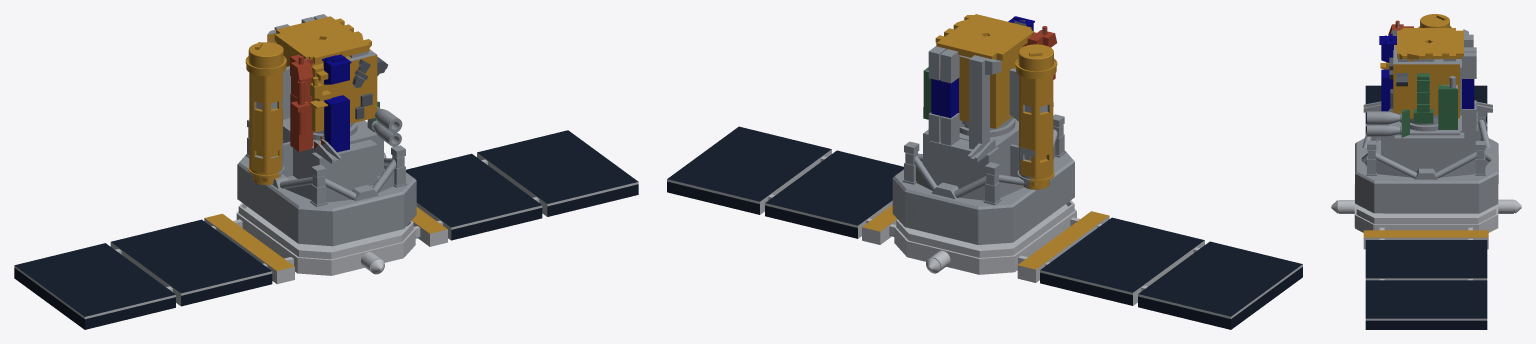
The model's file is soho.glb.
The picture shows the model from 3 angles, left to right: view 1: azimuth 30°, elevation 25°; view 2: azimuth 150°, elevation 25°; view 3: azimuth 270°, elevation 25°; orthographic projection. The views are drawn at different scales.
Parts seen in each view (by area): view 1: SOHO_Solar_Array, SOHO_Instrument_Module, SOHO_Main_Body; view 2: SOHO_Solar_Array, SOHO_Instrument_Module, SOHO_Main_Body; view 3: SOHO_Solar_Array, SOHO_Main_Body, SOHO_Instrument_Module.
Boxes of the visible parts, left/top/right/bottom form: SOHO_Solar_Array: left=14, top=130, right=638, bottom=329; SOHO_Instrument_Module: left=245, top=14, right=402, bottom=163; SOHO_Main_Body: left=237, top=120, right=416, bottom=246; SOHO_Solar_Array: left=667, top=126, right=1302, bottom=329; SOHO_Instrument_Module: left=923, top=14, right=1057, bottom=162; SOHO_Main_Body: left=892, top=114, right=1074, bottom=244; SOHO_Solar_Array: left=1331, top=85, right=1521, bottom=329; SOHO_Main_Body: left=1355, top=111, right=1498, bottom=213; SOHO_Instrument_Module: left=1363, top=14, right=1492, bottom=137.
Bounding box in the file's own units: 175 × 61.02 × 60.33.
